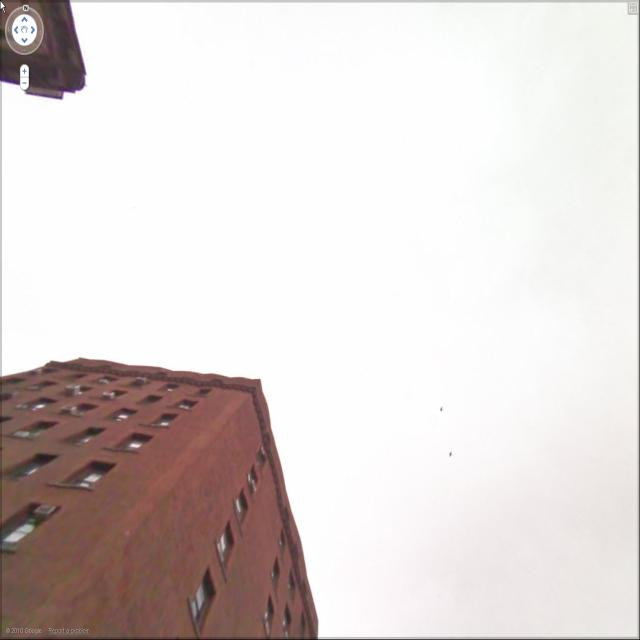b_1: (6, 347, 322, 640)
